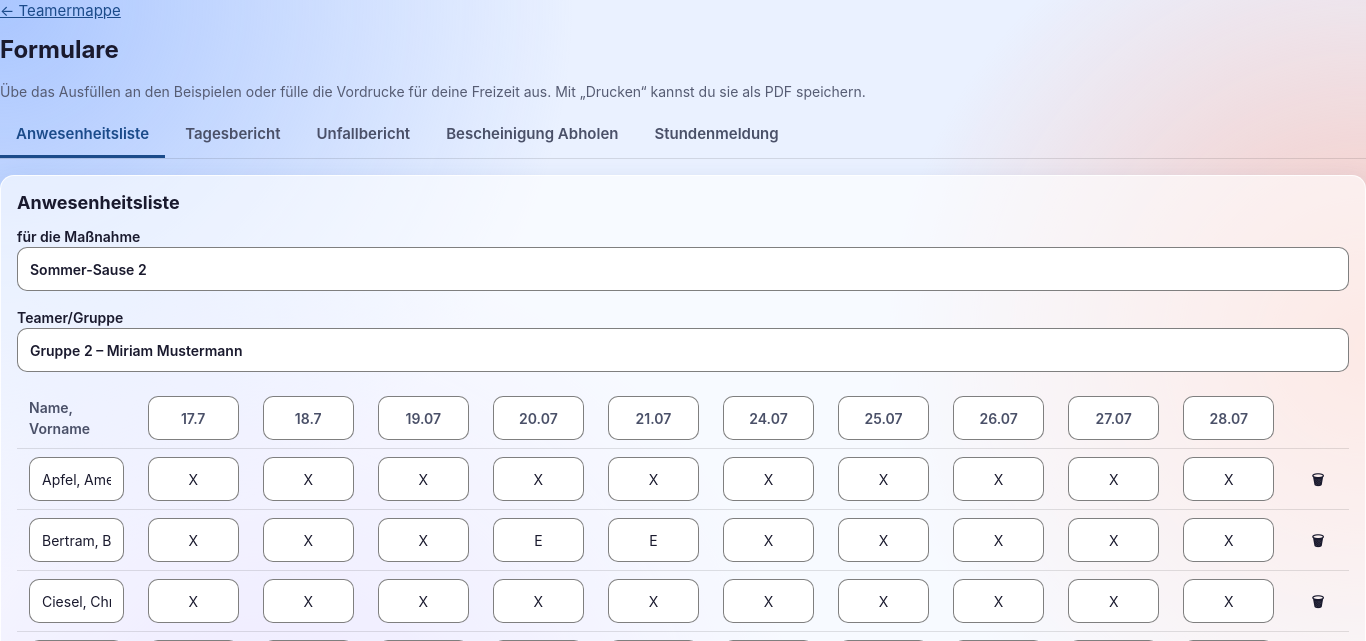
Test: Formulare: Vordrucke › Stundenmeldung rechnet die Endsumme und erlaubt neue Tage
The image size is (1366, 641).
Check: the heading "Anwesenheitsliste" is shown, box [17, 192, 180, 212]
Click the tab "Stundenmeldung" at (716,136), box [638, 114, 795, 158]
(page scrolled)
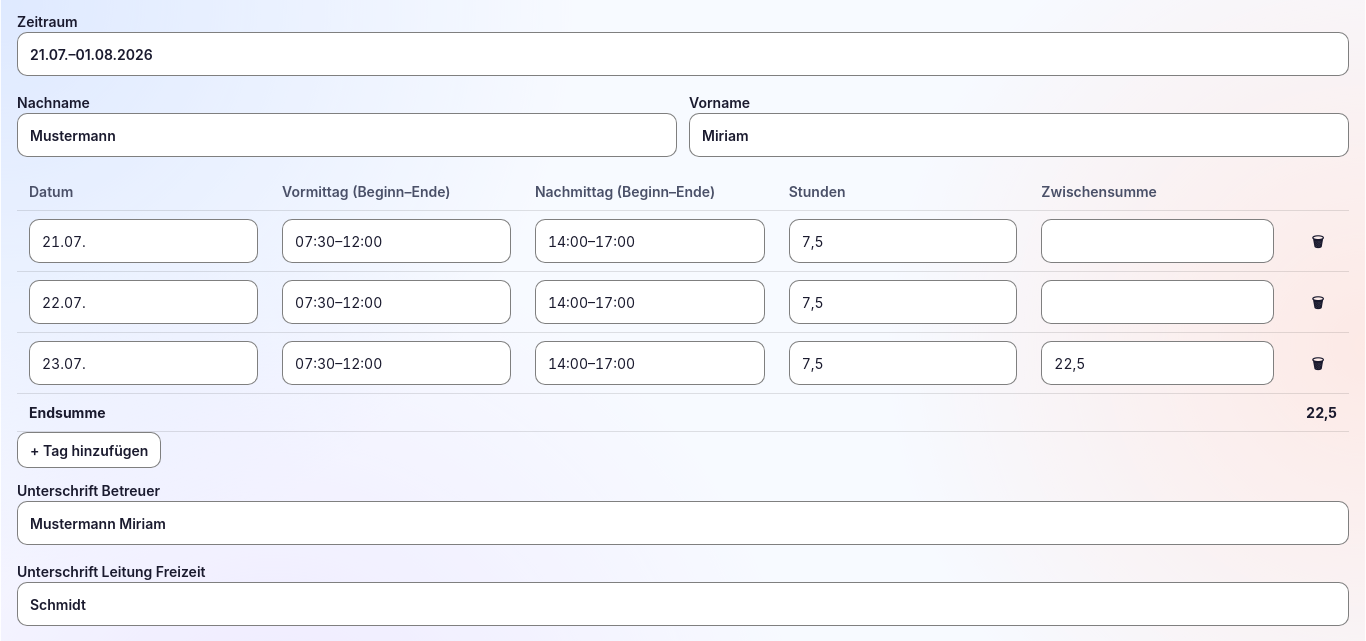
Check: the text "22,5" is shown, box [1306, 404, 1337, 421]
Click the button "+ Tag hinzufügen" at (89,450), box [17, 432, 161, 468]
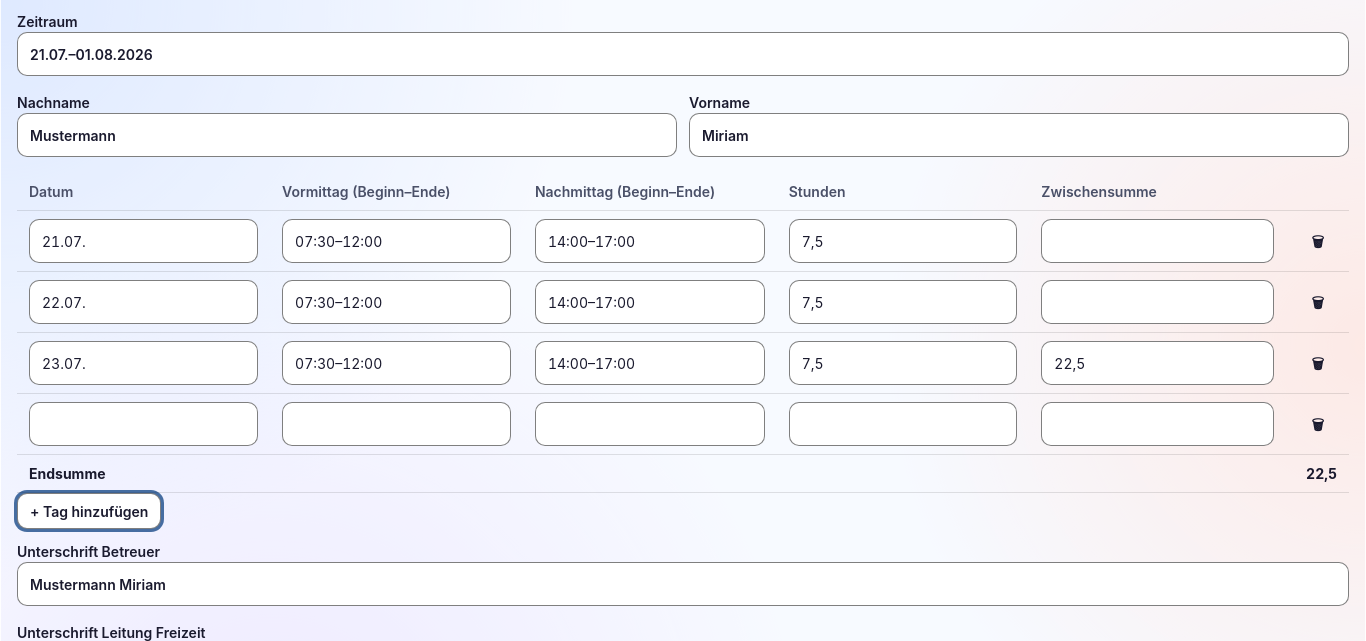
Type "4" into the field named "Stunden 4" at (903,424), box [789, 402, 1017, 446]
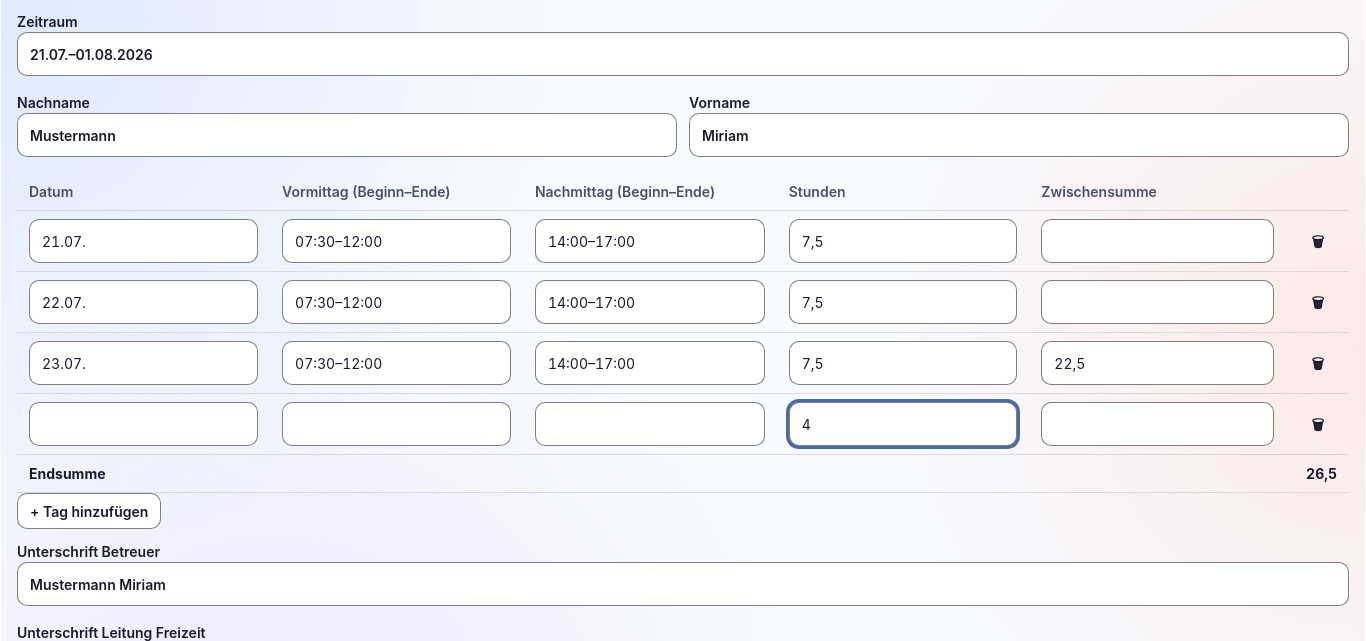
Check: the text "26,5" is shown, box [1306, 465, 1337, 482]
Click the button named "Zeile 4 entfernen" at (1318,424), box [1298, 406, 1337, 442]
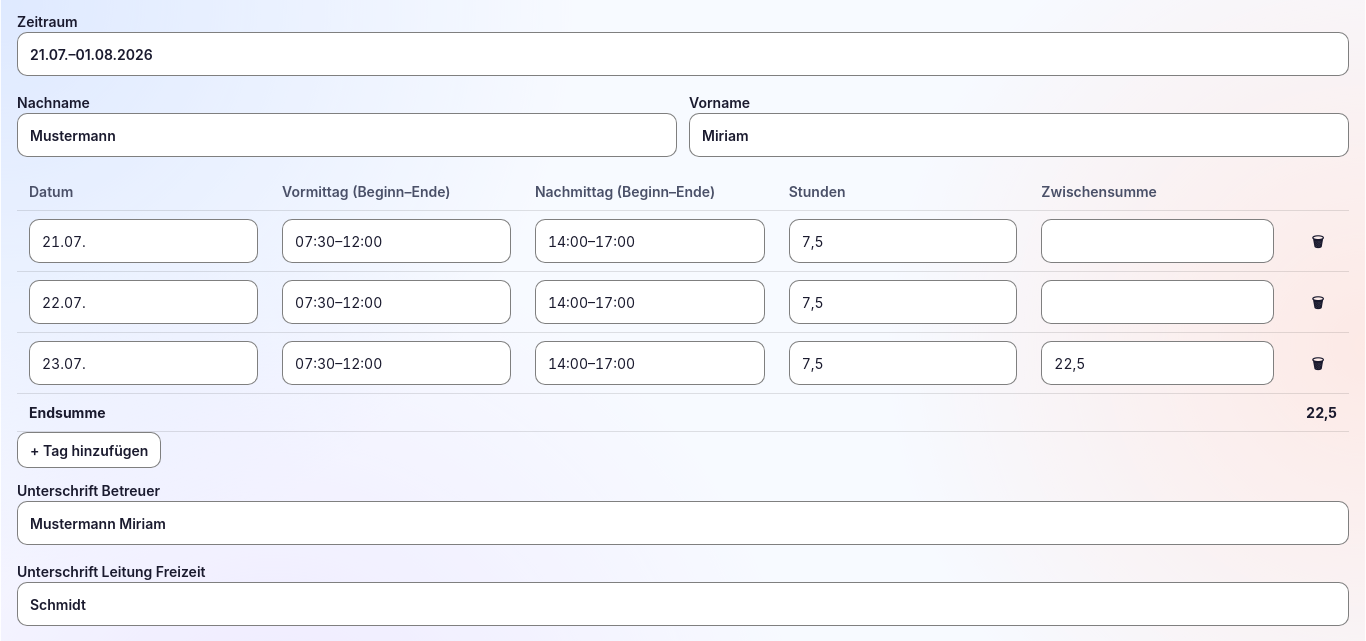
Check: the text "22,5" is shown, box [1306, 404, 1337, 421]
